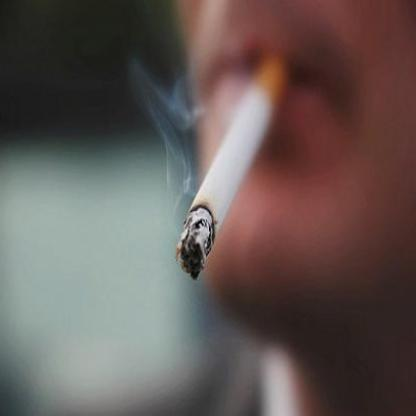cigarette: (176, 59, 290, 285)
smoke: (147, 67, 200, 210)
